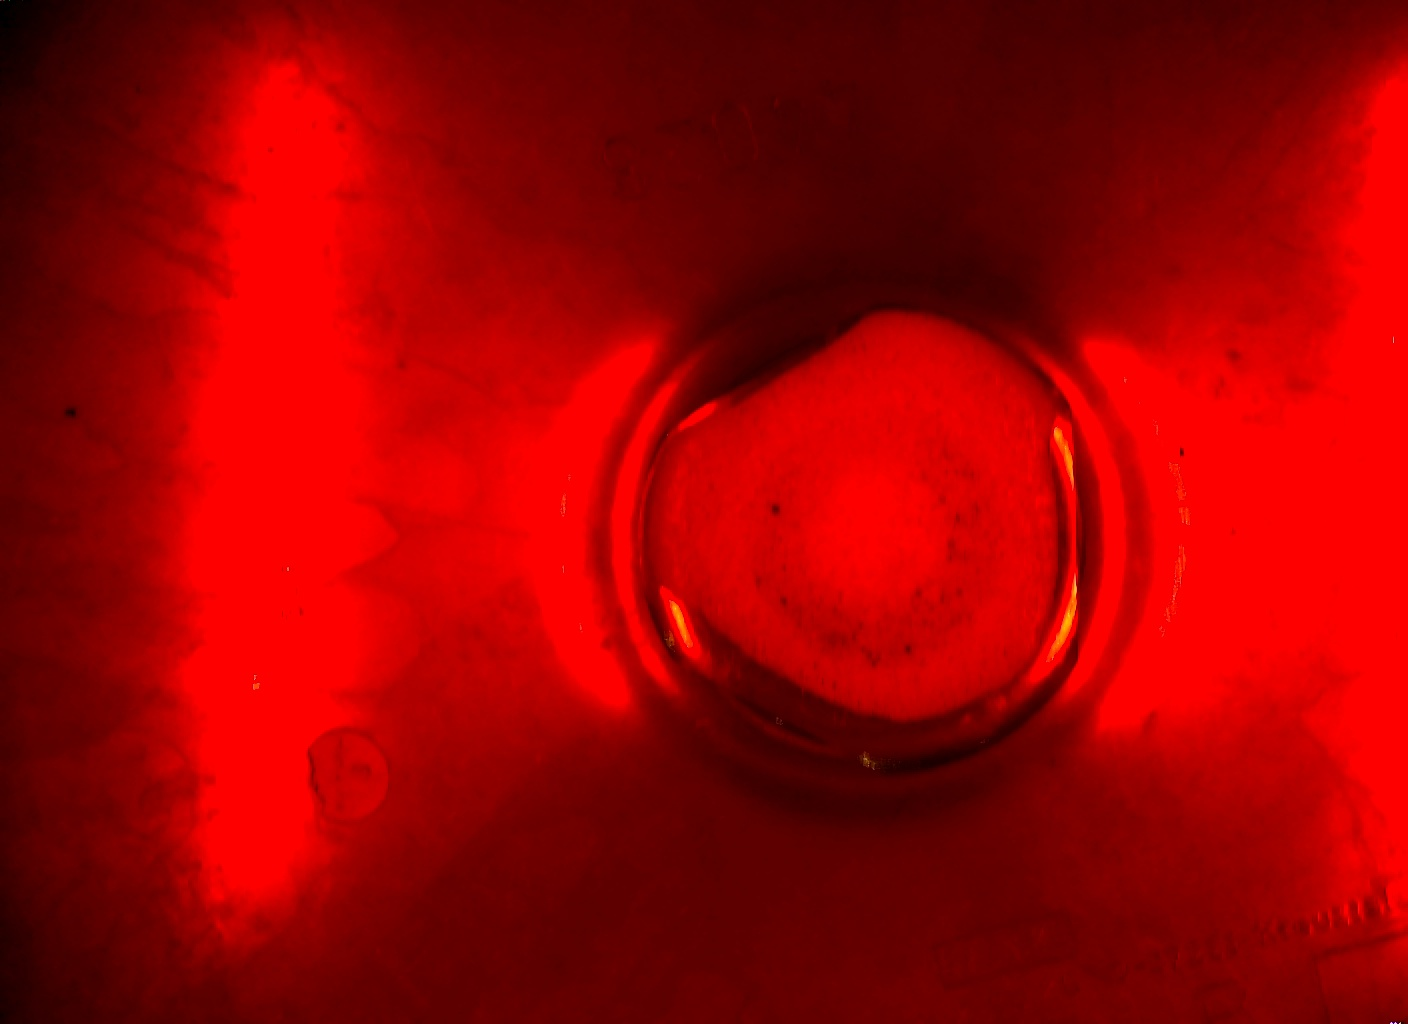shapka: (624, 305, 1080, 731)
